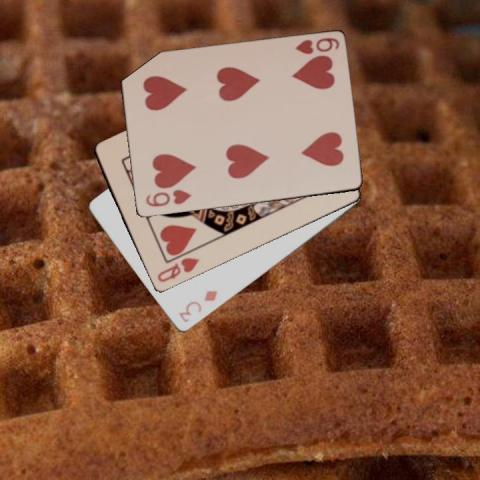3d: (176, 287, 220, 325)
6h: (142, 186, 193, 208), (291, 35, 341, 56)
Qh: (154, 255, 200, 284)
